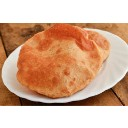poori: (19, 26, 101, 97)
